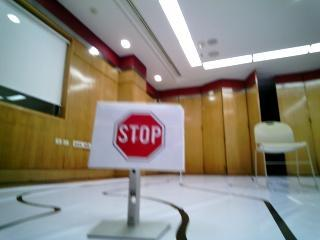stop: (95, 101, 184, 176)
